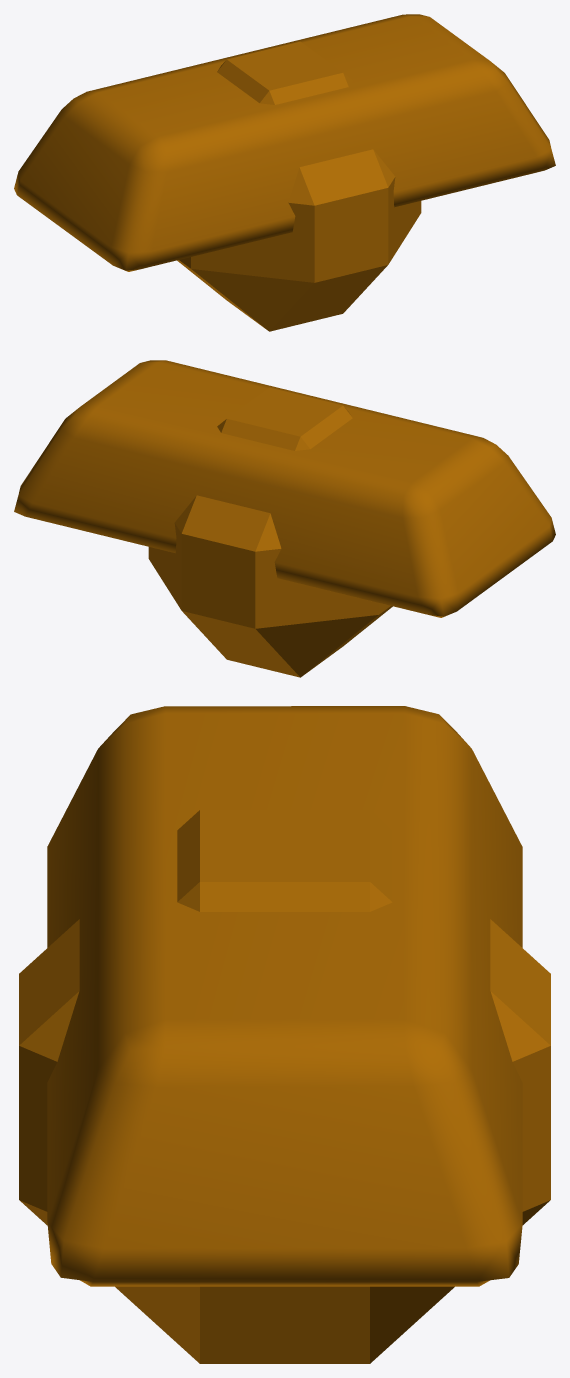
The model's file is Collectables.fbx.
The picture shows the model from 3 angles, top to bottom: view 1: azimuth 30°, elevation 25°; view 2: azimuth 150°, elevation 25°; view 3: azimuth 270°, elevation 25°; orthographic projection. The views are drawn at different scales.
Parts seen in each view (by area): view 1: Slitok, Gem; view 2: Slitok, Gem; view 3: Slitok, Gem.
Boxes of the visible parts, x1,y1,x2,y2 form: Slitok: (14, 14, 555, 271); Gem: (177, 41, 421, 331); Slitok: (14, 360, 555, 617); Gem: (148, 387, 392, 677); Slitok: (47, 706, 522, 1286); Gem: (19, 810, 550, 1363).
Bounding box in the file's own units: 1.91 × 1 × 1.
